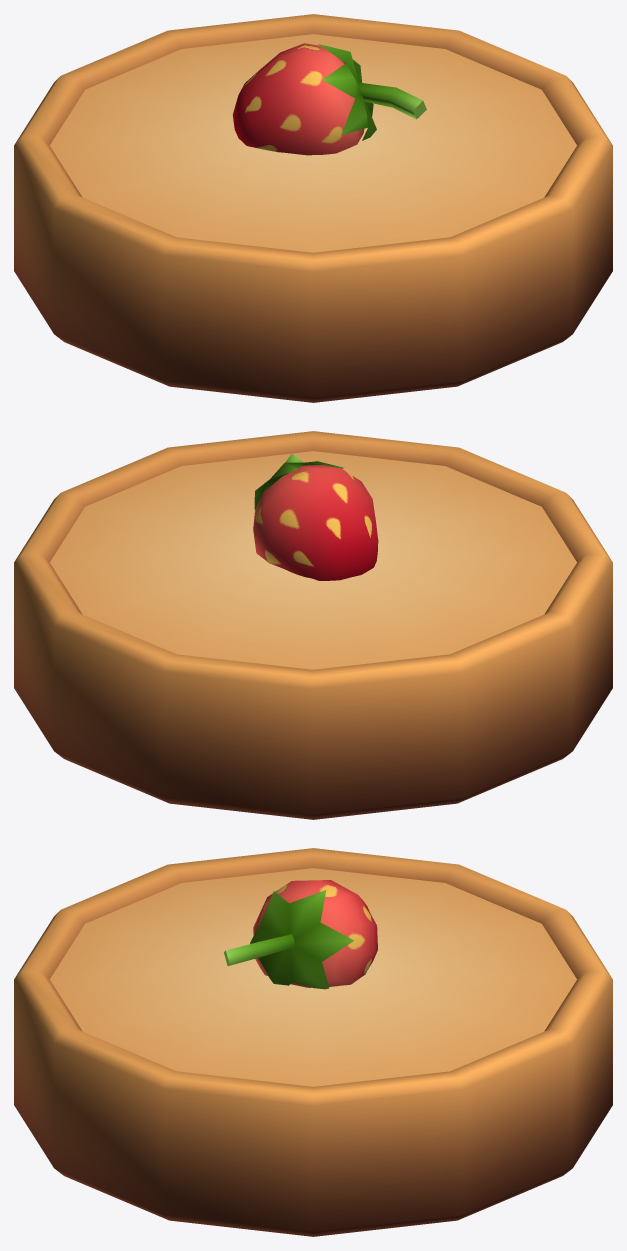
The model's file is m_GermanCheeseCake01.fbx.
The picture shows the model from 3 angles, top to bottom: view 1: azimuth 30°, elevation 25°; view 2: azimuth 150°, elevation 25°; view 3: azimuth 270°, elevation 25°; orthographic projection.
Parts seen in each view (by area): view 1: m_GermanCheeseCake01; view 2: m_GermanCheeseCake01; view 3: m_GermanCheeseCake01.
Boxes of the visible parts, x1,y1,x2,y2 form: m_GermanCheeseCake01: (14, 14, 612, 402); m_GermanCheeseCake01: (14, 431, 612, 819); m_GermanCheeseCake01: (14, 848, 612, 1236).
Size of the model in its own units: 28 by 11.96 by 28.
